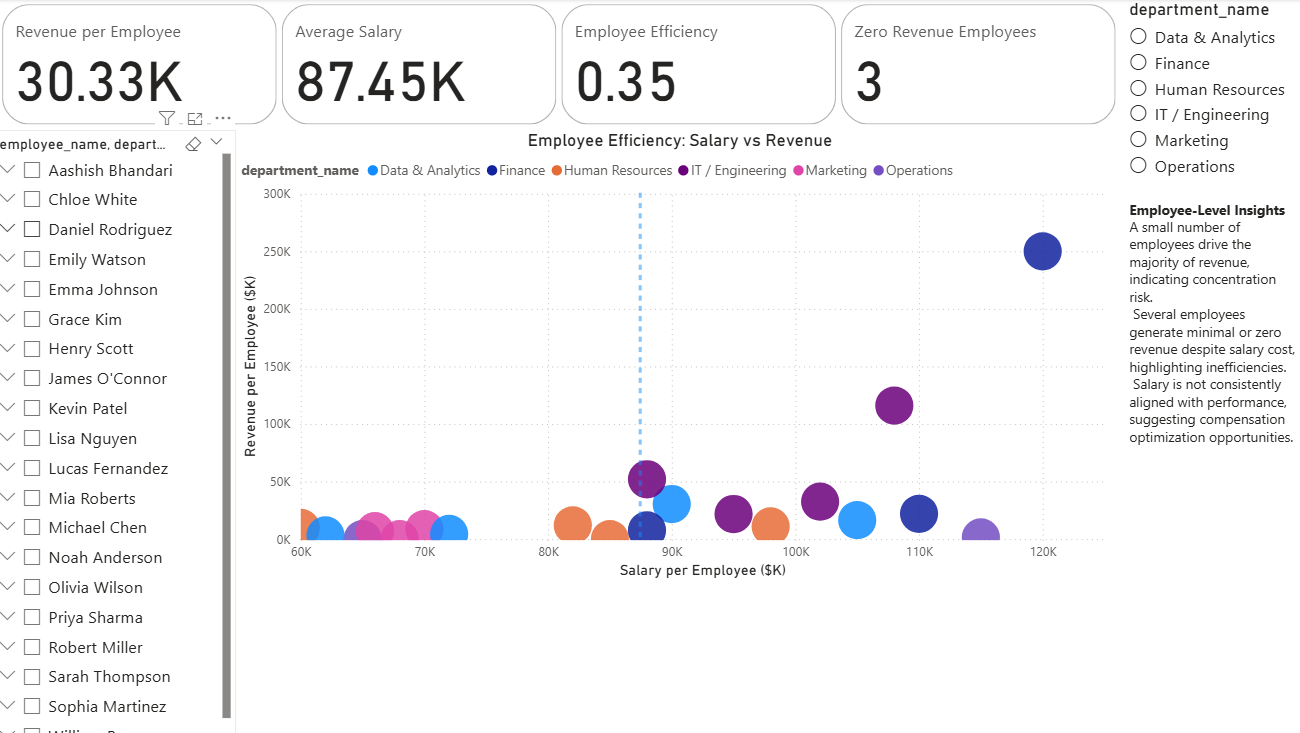

The page's visual inventory and layout, read from the dashboard file:
{"tool":"powerbi","page":{"name":"Revenue by Department","canvas":[1280,720],"ordinal":1},"visuals":[{"type":"cardVisual","fields":{"Data":["attendance.Revenue per Employee","employees.Average Salary","attendance.Employee Efficiency","attendance.Zero Revenue Employees"]},"box":[10.7,0,1096.2,127.4],"z":0},{"type":"scatterChart","title":"Employee Efficiency: Salary vs Revenue","fields":{"X":["sales.Salary per Employee"],"Y":["attendance.Revenue per Employee"],"Size":["performance.Avg Performance"],"Series":["departments.department_name"],"Category":["employees.employee_name"]},"box":[243.1,127.3,863.8,441.3],"z":1000},{"type":"listSlicer","fields":{"Values":["departments.department_name"]},"box":[1106.9,0,173.1,235.4],"z":2000},{"type":"textbox","box":[1106.8,190.9,173.2,254.5],"z":3000},{"type":"slicer","fields":{"Values":["employees.employee_name","departments.department_name","employees.salary","sales.revenue"]},"box":[0,127.3,243.1,592.5],"z":4000}]}

Visuals, with their boxes on the page's 1280x720 design canvas (x1, y1, x2, y2). These are canvas units, not pixel positions in the 1300x733 screenshot, which may show the page scaled, cropped or inside an application window:
cardVisual - attendance.Revenue per Employee x employees.Average Salary: locate(11, 0, 1107, 127)
"Employee Efficiency: Salary vs Revenue" scatterChart: locate(243, 127, 1107, 569)
listSlicer - departments.department_name: locate(1107, 0, 1280, 235)
textbox: locate(1107, 191, 1280, 445)
slicer - employees.employee_name x departments.department_name: locate(0, 127, 243, 720)
